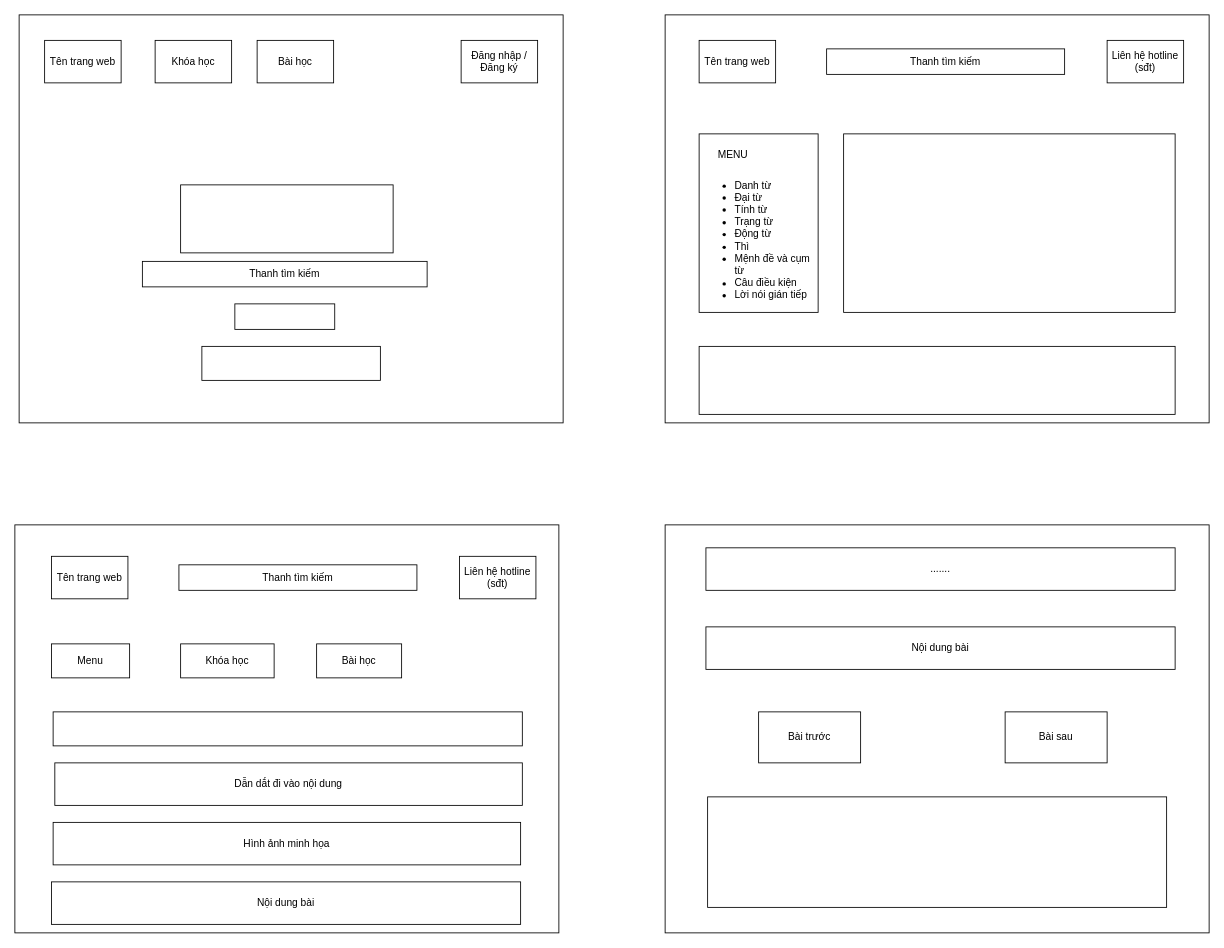
Image size: 1224x948. Some labels were removed from this diagram. Each missing label, with the box of its shape:
Bài viết nổi bật: (843, 133, 1175, 312)
Danh sách các bài gợi ý để xem thêm: (707, 796, 1167, 907)
Dòng thời gian hiện lên mấy bài kiểu như là vừa mới được đăng lên gần đây: (698, 346, 1175, 414)
Nút " Học ngay ": (234, 303, 335, 329)
Tiêu đề bài học: (52, 711, 522, 746)
Tên trang web ( in đậm, phóng to , nằm giữa trang): (180, 184, 393, 253)
Vài dòng mô tả về trang web hoặc câu chi đó để tạo động lực học tiếng anh: (201, 346, 380, 380)
